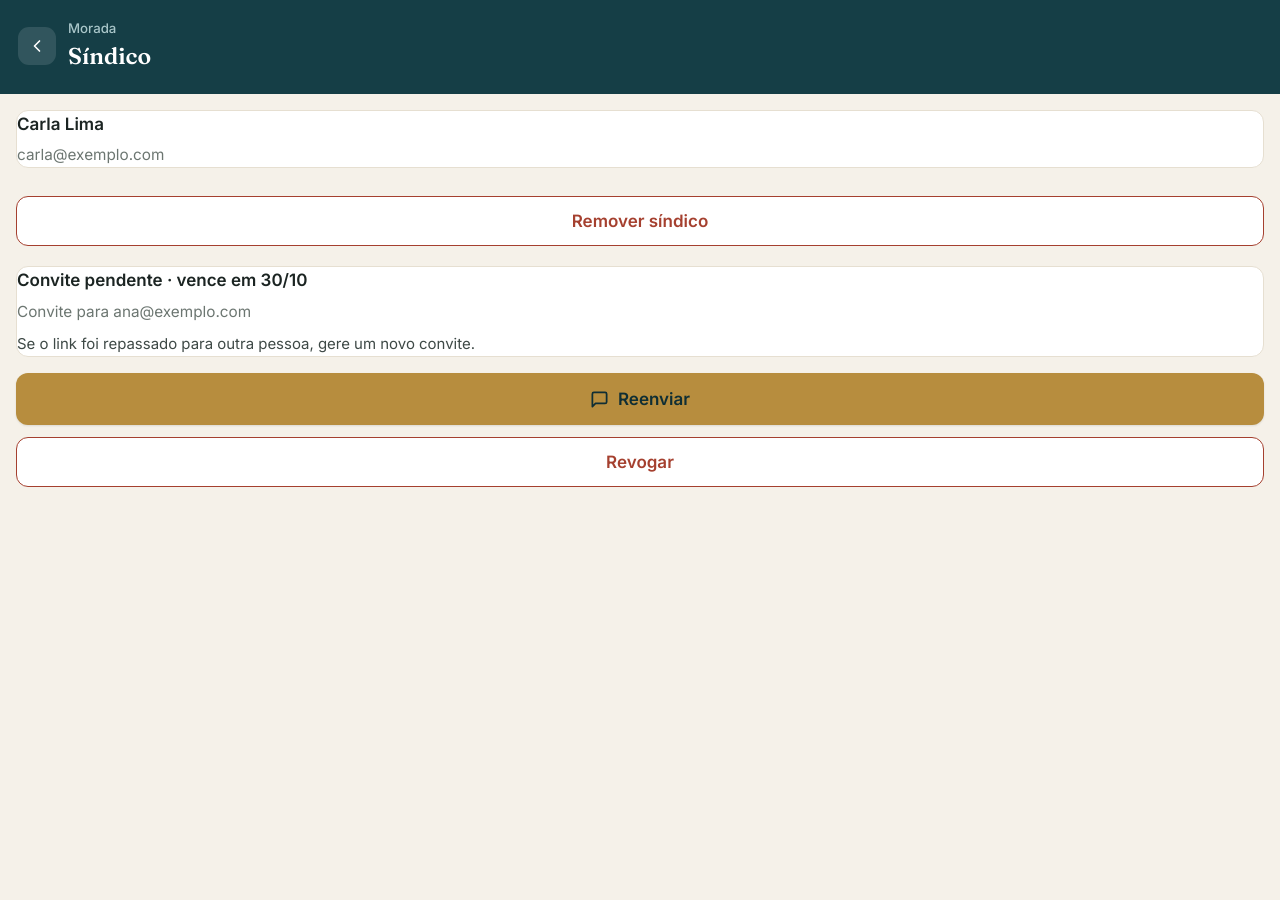
Test: SindicoScreen › removing the síndico keeps a still-pending invite shown as pending
Click the button "Remover síndico" at (640, 221), box [16, 196, 1264, 246]
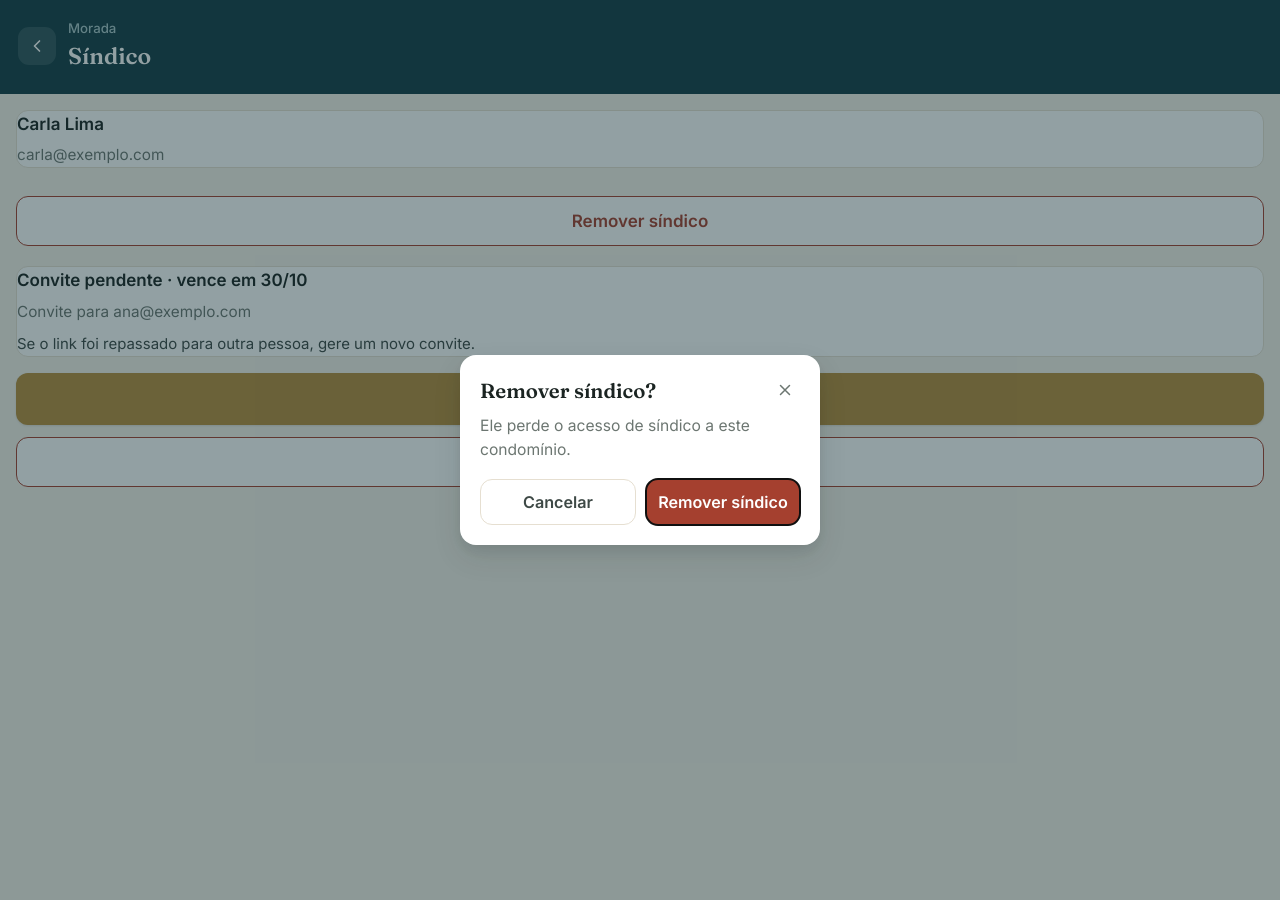
Click the button "Remover síndico" below "Remover síndico?" at (723, 502), box [646, 479, 800, 525]
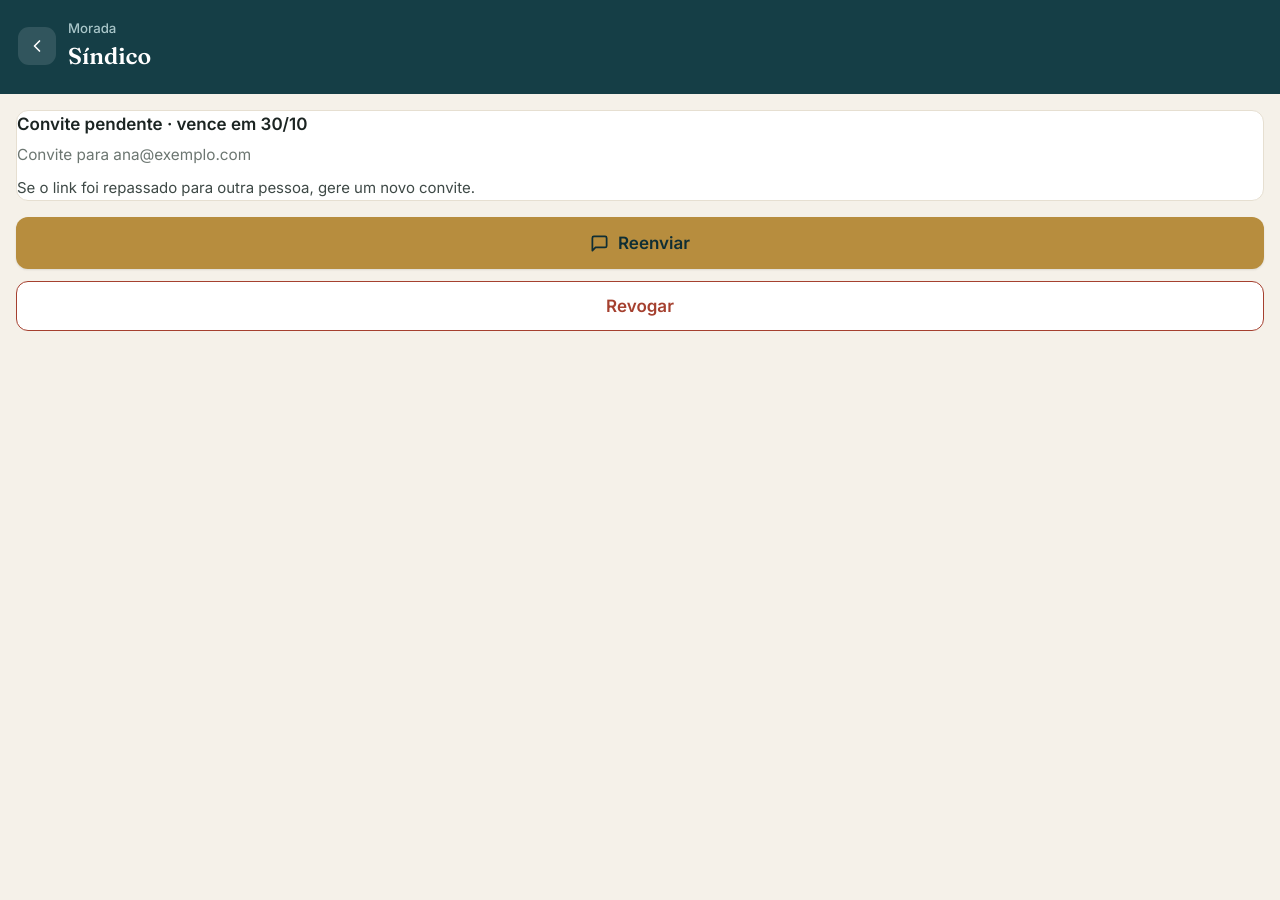
Expected: the text "Convite pendente · vence em 30/10" is shown, [17, 114, 308, 134]
Result: the button "Remover síndico" is gone
